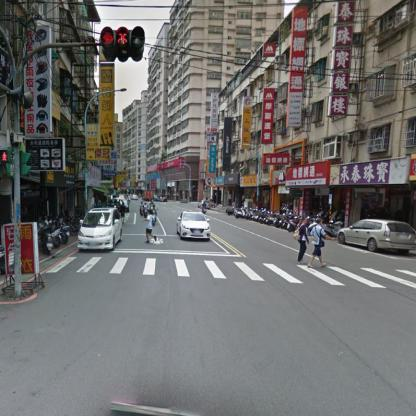Red Light: (100, 26, 145, 53)
